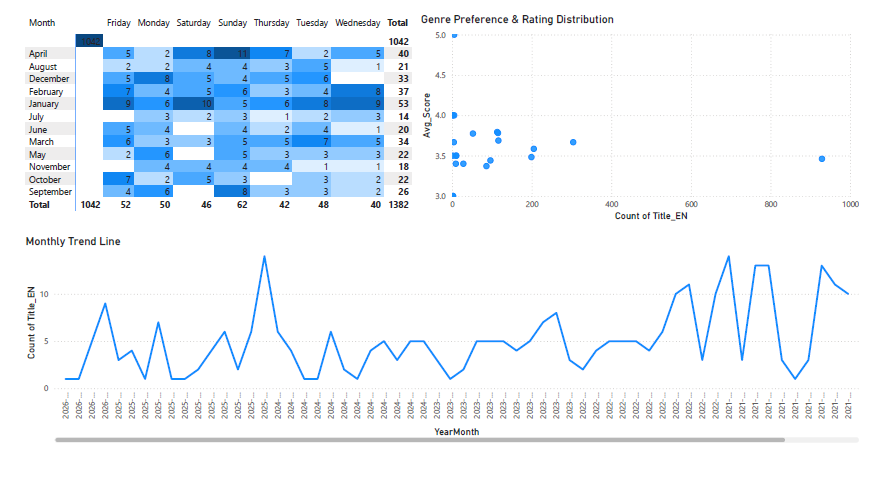

The dashboard page shown, as its layout file describes it:
{"tool":"powerbi","page":{"name":"Genre & Time Intelligence","canvas":[1280,720],"ordinal":1},"visuals":[{"type":"pivotTable","fields":{"Rows":["Dim_Calendar.Month"],"Columns":["Dim_Calendar.Weekday"],"Values":["CountNonNull(Drama.Title_EN)"]},"box":[10,0,597.5,320],"z":0},{"type":"lineChart","title":"Monthly Trend Line","fields":{"Category":["Dim_Calendar.YearMonth"],"Y":["CountNonNull(Drama.Title_EN)"]},"box":[10,335,1270,320],"z":1},{"type":"scatterChart","title":"Genre Preference & Rating Distribution","fields":{"X":["Fact_Genre_Analysis.Title_EN"],"Category":["Fact_Genre_Analysis.Genres_EN"],"Y":["Fact_Genre_Analysis.Avgg_Score"]},"box":[607.5,0,672.5,320],"z":2}]}

Visuals, with their boxes in screenshot pixels (x1, y1, x2, y2), scaled from the page's 1280x720 canvas onto the 873x496 screenshot:
pivotTable - Dim_Calendar.Month x Dim_Calendar.Weekday: 7,0,414,220
"Monthly Trend Line" lineChart: 7,231,872,451
"Genre Preference & Rating Distribution" scatterChart: 414,0,872,220
